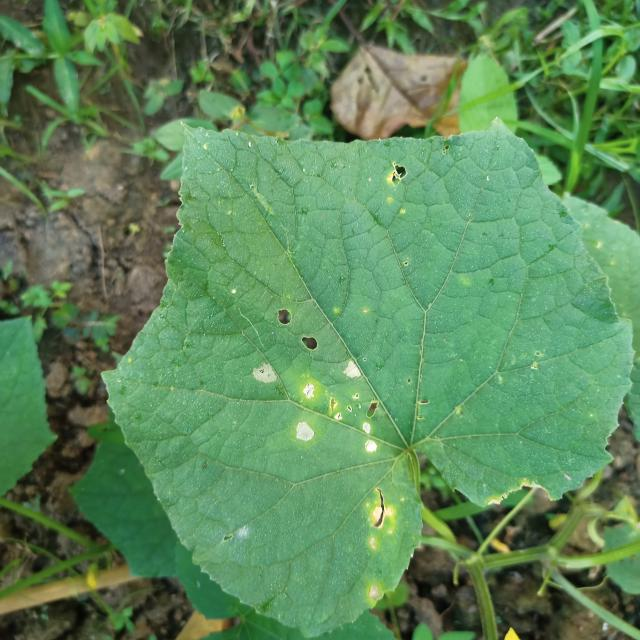disease_cucumber: (245, 344, 400, 462)
